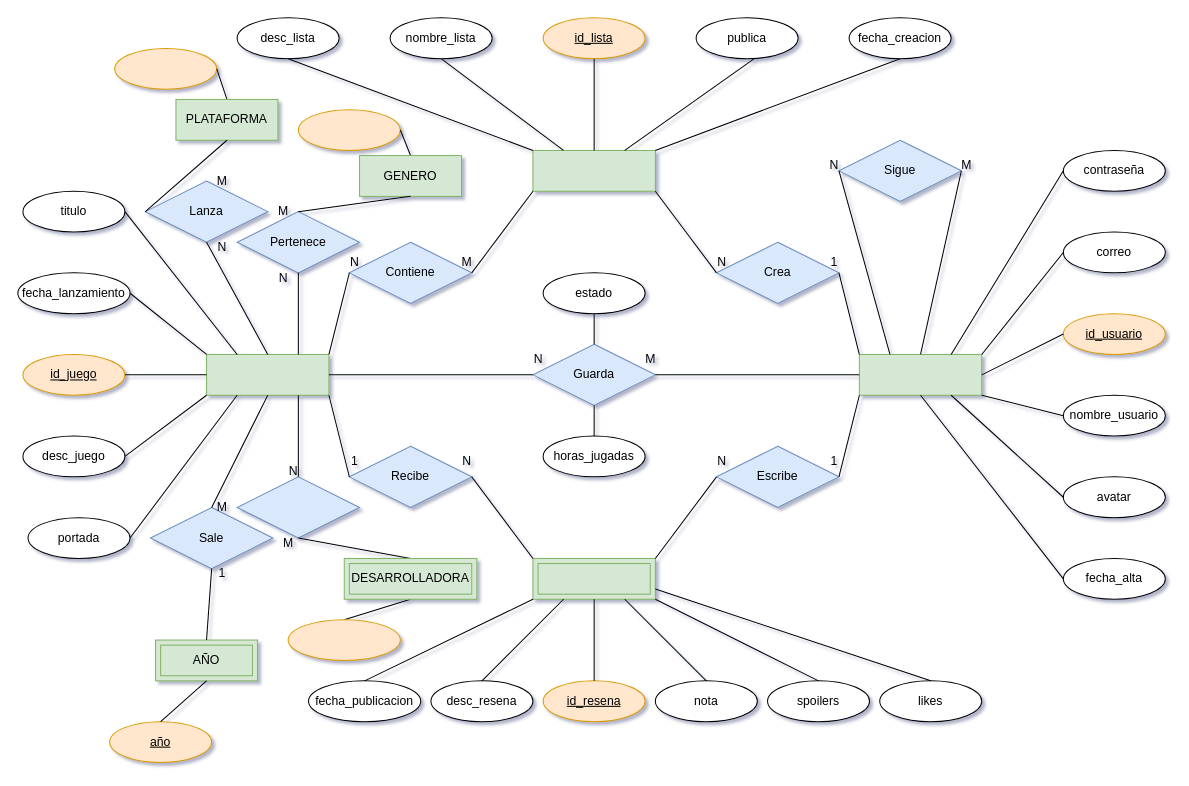
The diagram is 1189 pixels wide and 786 high, and some of its shapes have lost their labels. The centre of each missing label's shape, as x and y in pixels:
"Desarrolla" goes at [298,507].
"id_desarrolladora" goes at [343,639].
"id_genero" goes at [348,129].
"id_plataforma" goes at [165,68].
"JUEGO" goes at [267,374].
"LISTA" goes at [593,170].
"RESENA" goes at [593,578].
"USUARIO" goes at [920,374].
